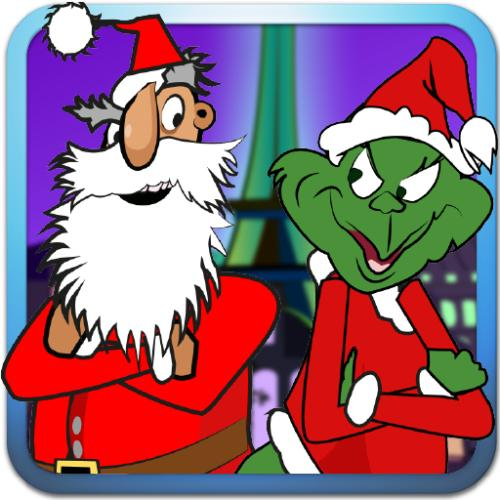Santa: (0, 0, 281, 486)
